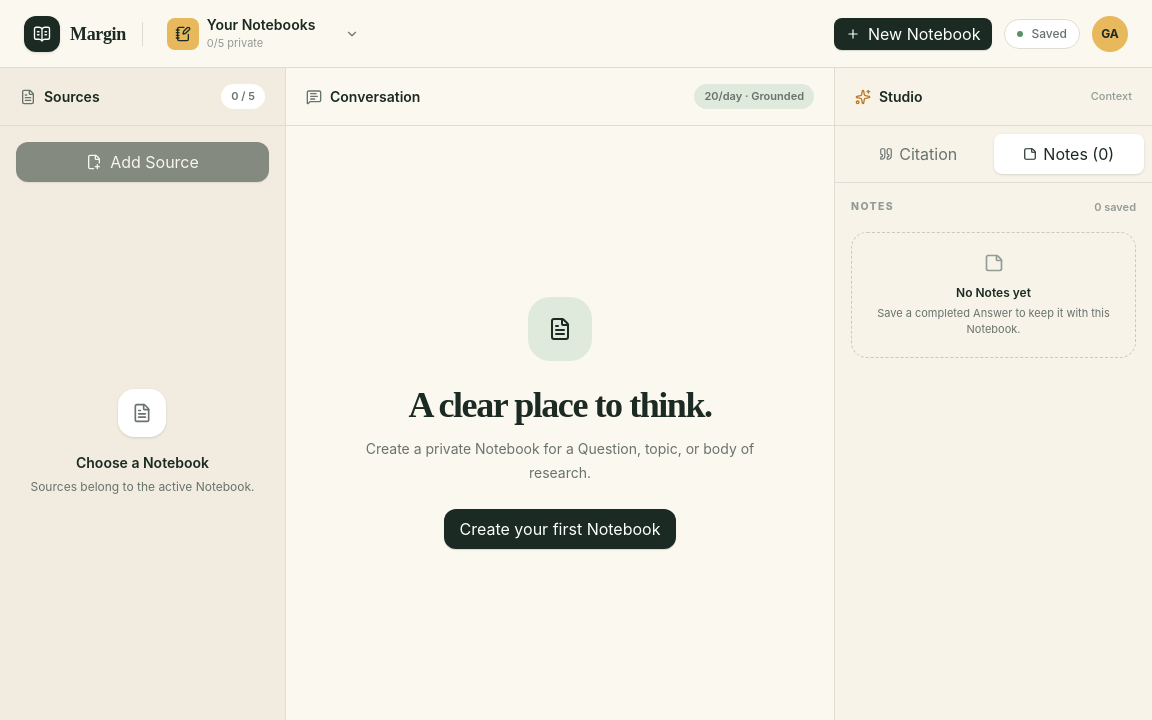
Notebook workspace › creates and opens a normalized Notebook
Click the button "Create your first Notebook". click: (560, 529)
box: x1=444 y1=509 x2=676 y2=549
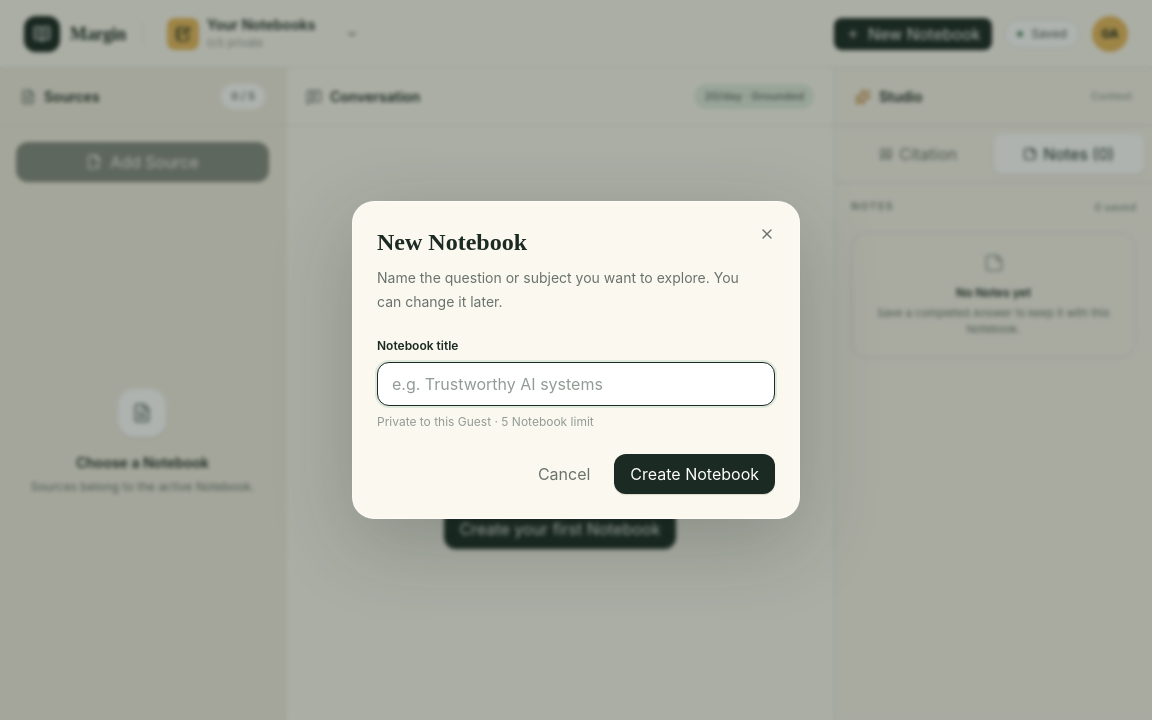
Type "  New   research  " into the field labelled "Notebook title". click: (576, 384)
box: x1=377 y1=362 x2=775 y2=406
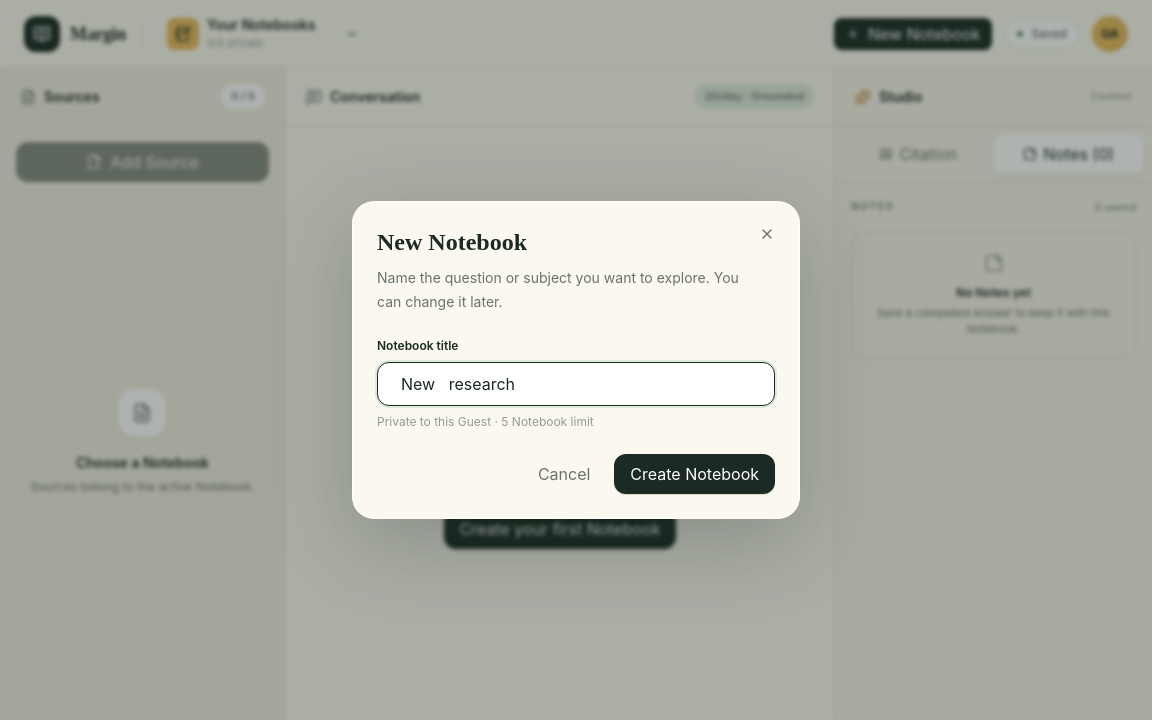
Click the button "Create Notebook". click: (695, 474)
box: x1=614 y1=454 x2=775 y2=494
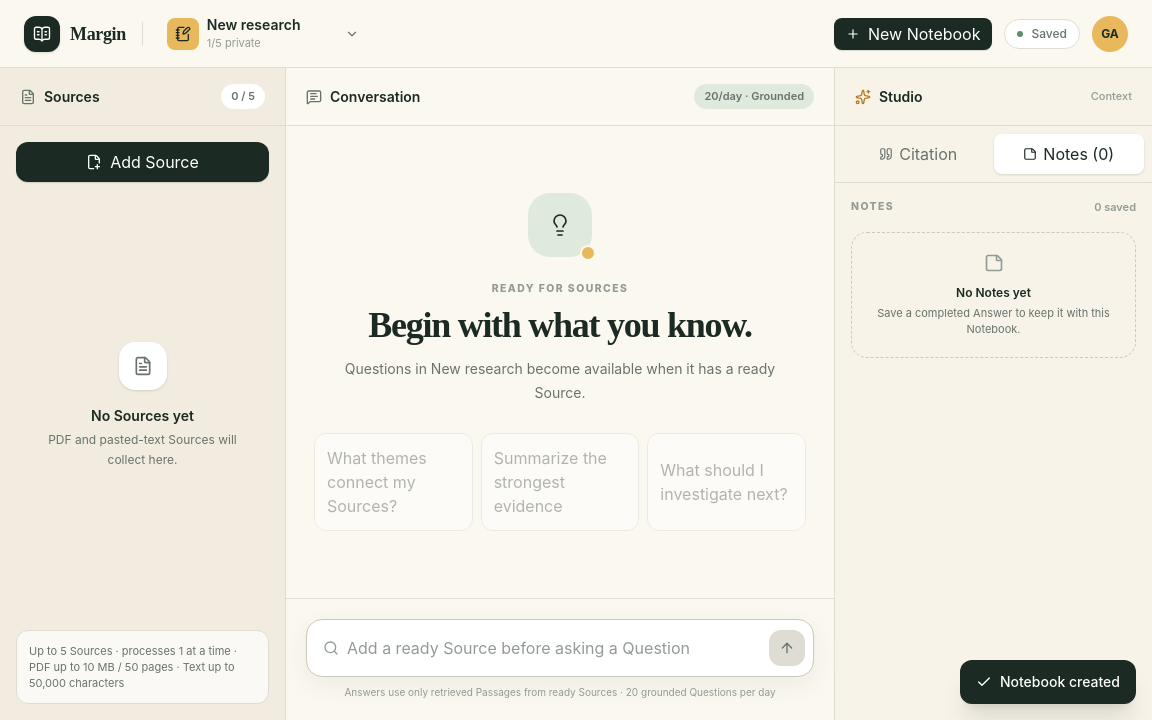
Now the text "New research" is shown, box x1=207 y1=16 x2=300 y2=33
